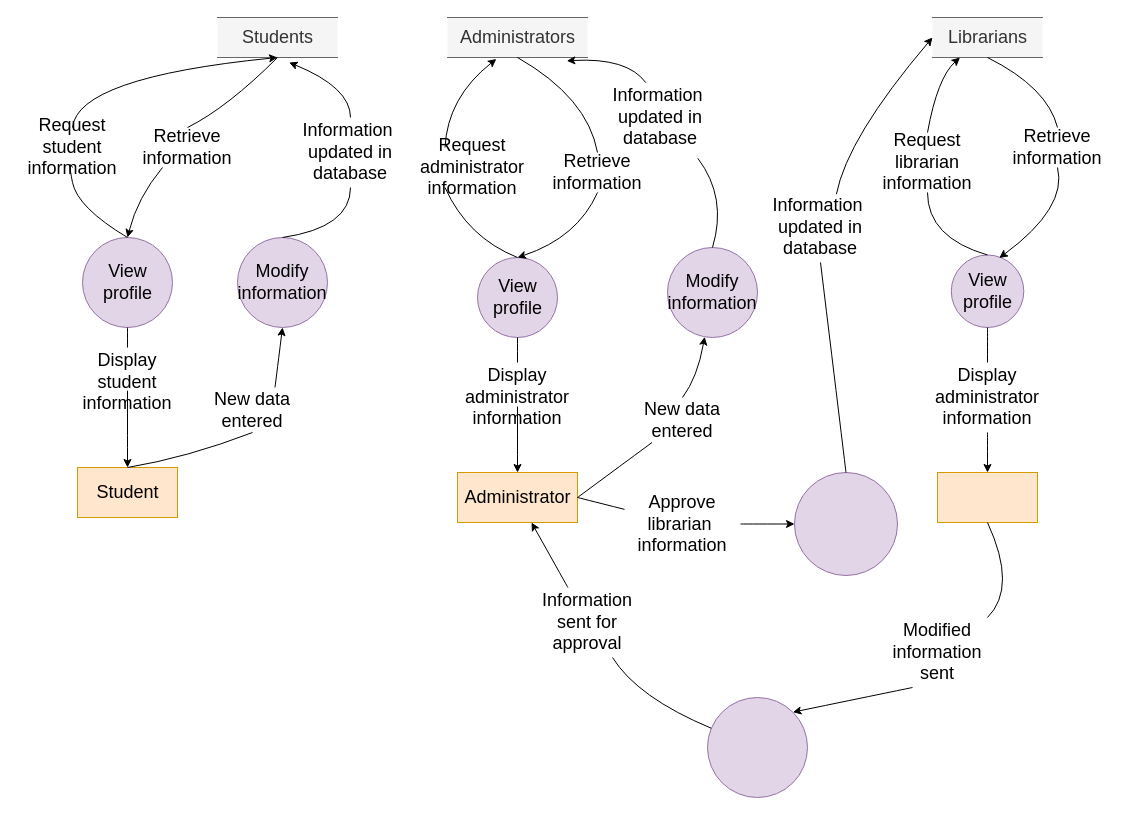
This 1124x815 diagram has some shape labels left out. The box of each missing label's shape, as (x1, y1, x2, y2) in pixels:
Librarian: (936, 472, 1038, 522)
Modify information request: (706, 696, 808, 798)
Modify librarian information: (794, 472, 898, 576)
